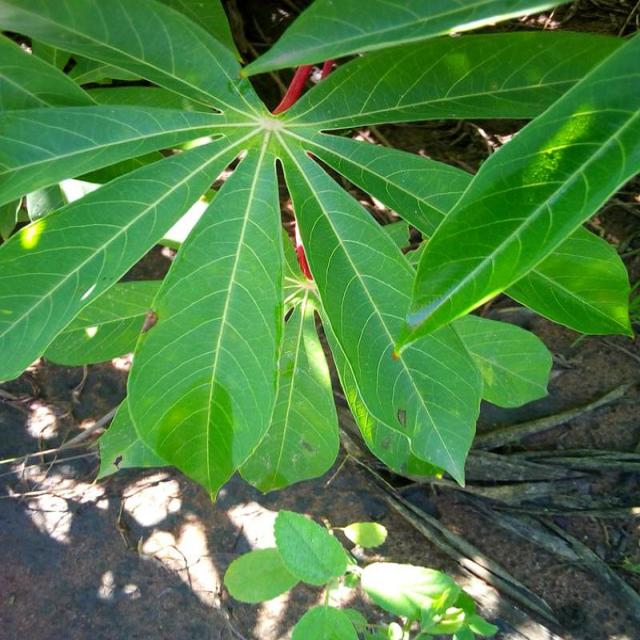cassava leaf: (2, 0, 640, 502), (401, 29, 640, 350), (124, 132, 286, 502)
